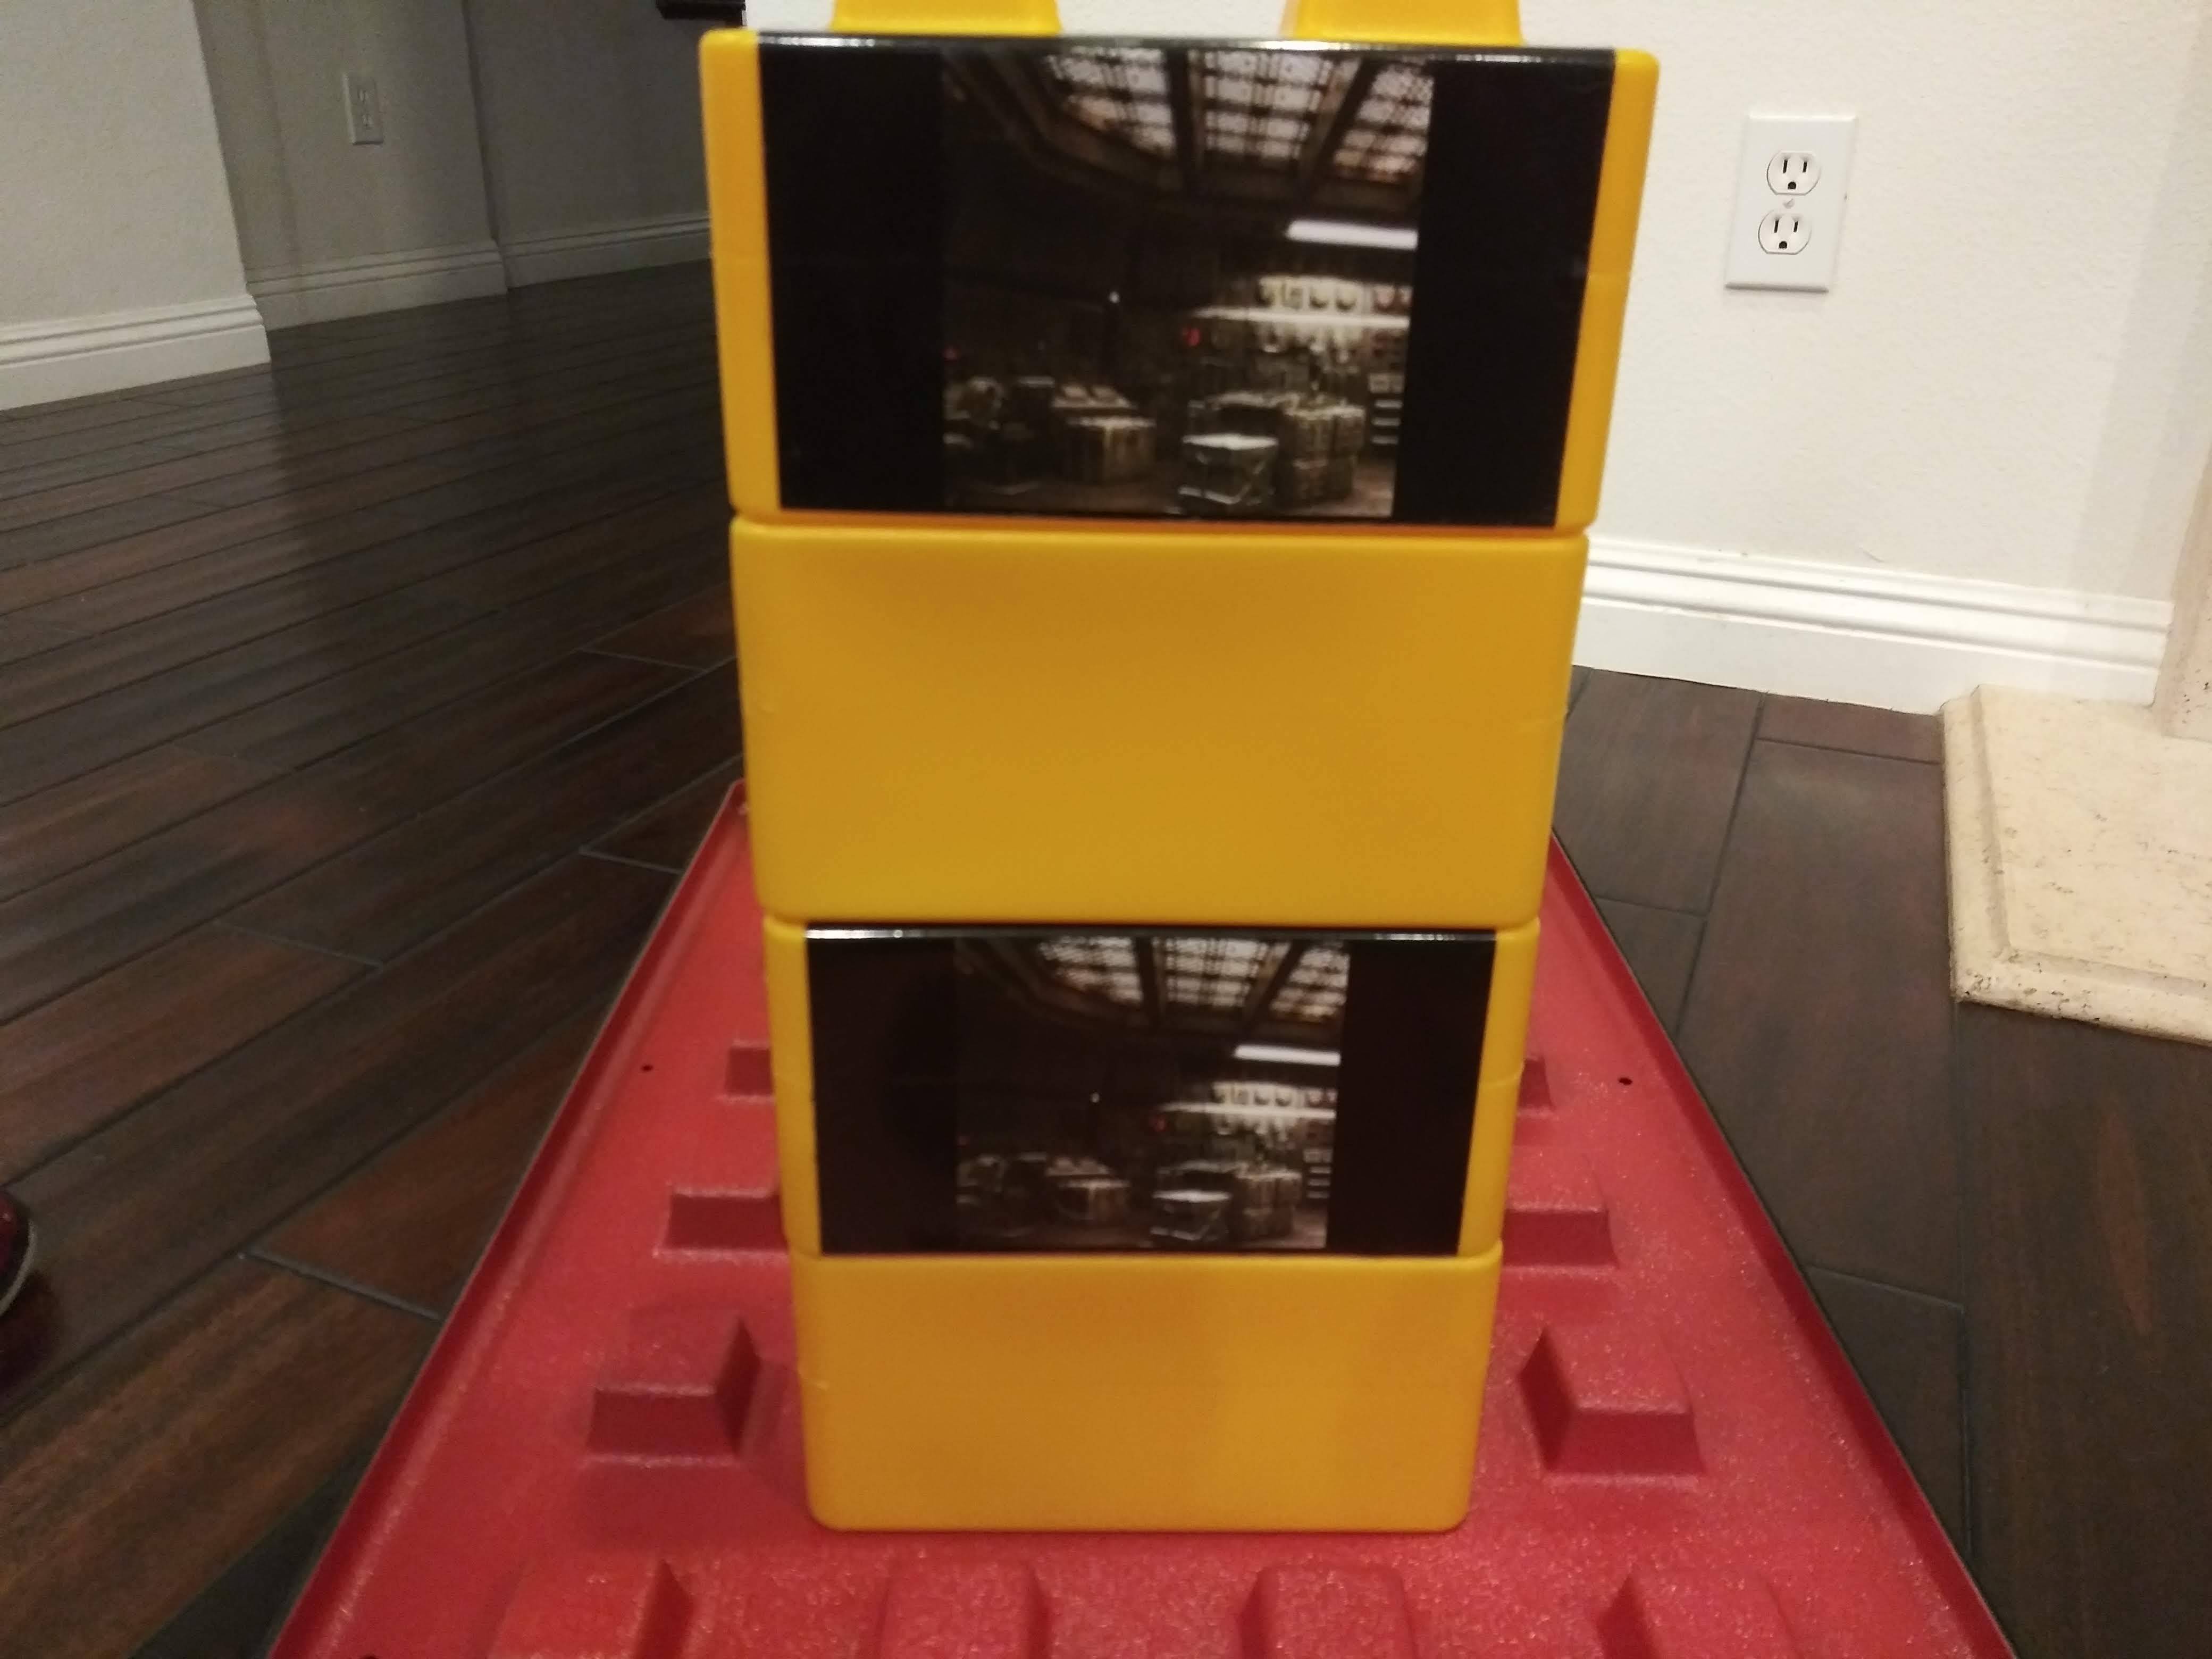skystone: (690, 37, 1625, 525), (738, 924, 1554, 1260)
stone: (705, 554, 1592, 894), (780, 1291, 1533, 1556)
